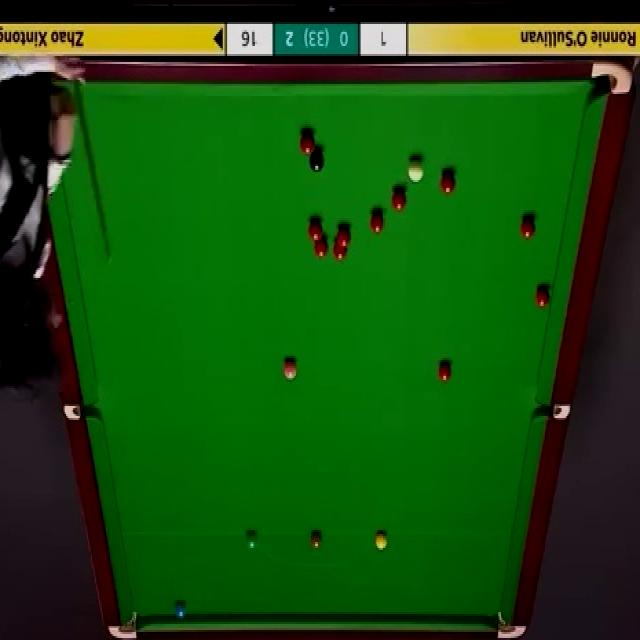black-ball: (308, 148, 326, 175)
blue-ball: (172, 597, 188, 622)
brown-ball: (309, 529, 323, 549)
green-ball: (244, 528, 258, 550)
pink-ball: (282, 357, 298, 382)
red-ball: (520, 213, 538, 243), (438, 168, 457, 196), (391, 185, 407, 212), (299, 128, 315, 155), (534, 283, 551, 308), (368, 208, 384, 232), (336, 224, 352, 247), (438, 361, 453, 385), (332, 240, 349, 261), (308, 220, 323, 242), (313, 238, 329, 258)
white-ball: (405, 157, 426, 184)
yellow-ball: (374, 530, 388, 550)
